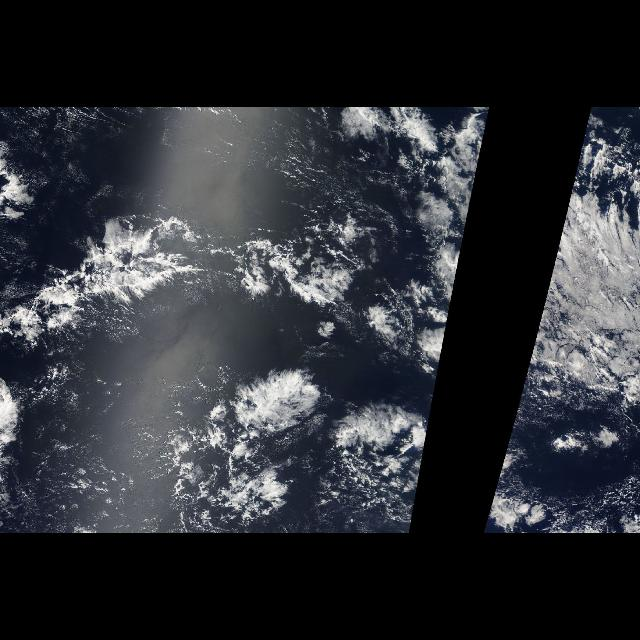Fish: (4, 208, 366, 454)
